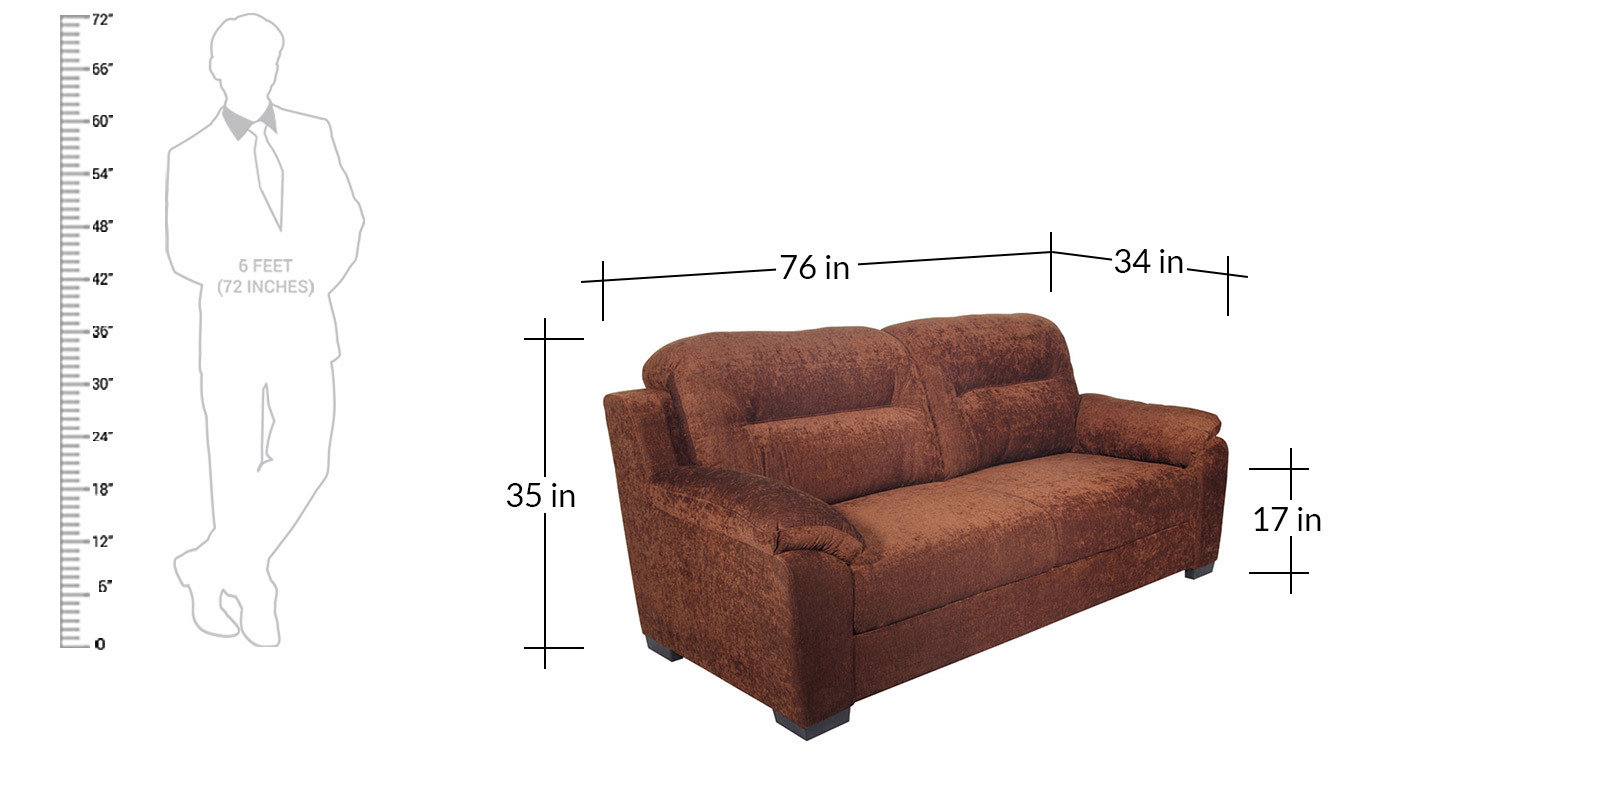Poland Three Seater Sofa in Chocolate Brown Colour by Furniture Mind: (600, 311, 1231, 742)
